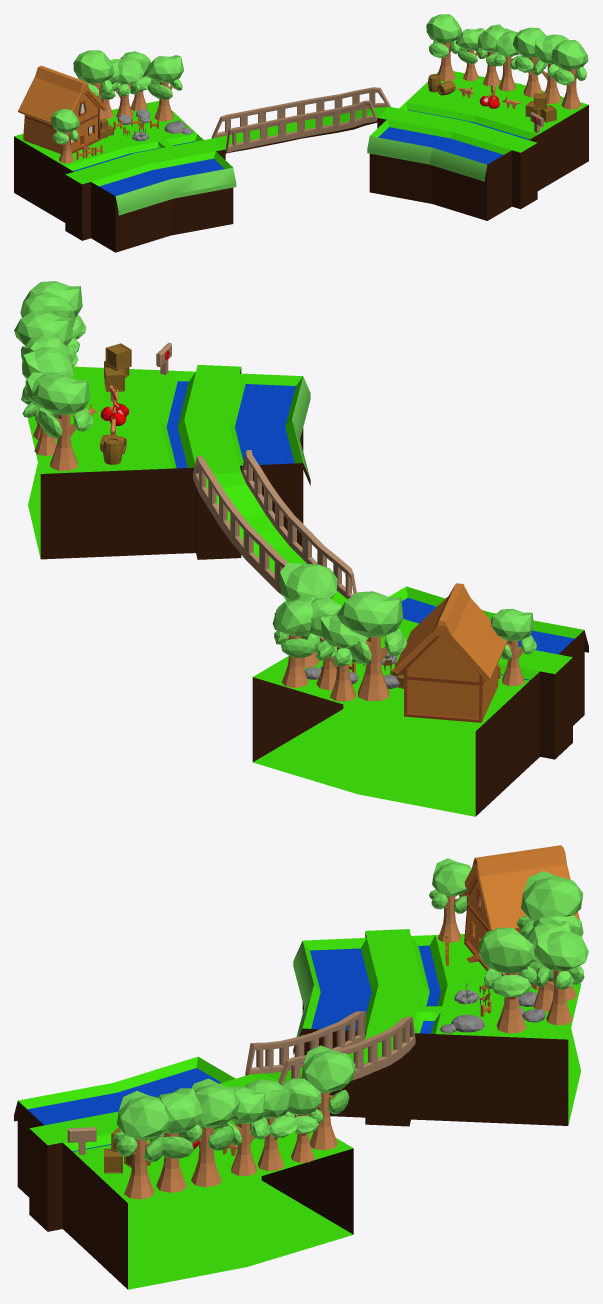
File: Grassland1.fbx
The picture shows the model from 3 angles, top to bottom: view 1: azimuth 30°, elevation 25°; view 2: azimuth 150°, elevation 25°; view 3: azimuth 270°, elevation 25°; orthographic projection. The views are drawn at different scales.
Parts seen in each view (by area): view 1: polySurface2, polySurface1, Bridge1, House, Leaf.025, Leaf.024, Bridge, Leaf.027, Leaf.026, Leaf.007, Leaf.002, Leaf.028 (+5 smaller); view 2: polySurface2, polySurface1, House, Bridge1, Leaf.024, Bridge, Leaf.007, Leaf.002, Leaf.023, Leaf.027, Leaf.029, Leaf.016 (+6 smaller); view 3: polySurface2, polySurface1, House, Bridge1, Leaf.025, Leaf.027, Leaf.024, Leaf.026, Leaf.007, Leaf.028, Leaf.029, Leaf.002 (+7 smaller).
Boxes of the visible parts, bbox=[...] form: polySurface2: bbox=[367, 71, 588, 220]; polySurface1: bbox=[14, 101, 236, 252]; Bridge1: bbox=[211, 87, 390, 152]; House: bbox=[18, 65, 106, 153]; Leaf.025: bbox=[551, 40, 588, 109]; Leaf.024: bbox=[426, 14, 461, 81]; Bridge: bbox=[214, 106, 388, 153]; Leaf.027: bbox=[513, 27, 547, 97]; Leaf.026: bbox=[532, 34, 568, 103]; Leaf.007: bbox=[73, 50, 114, 83]; Leaf.002: bbox=[50, 109, 79, 163]; Leaf.028: bbox=[493, 28, 521, 91]; polySurface2: bbox=[28, 365, 310, 559]; polySurface1: bbox=[252, 586, 588, 816]; House: bbox=[394, 583, 507, 722]; Bridge1: bbox=[193, 450, 356, 598]; Leaf.024: bbox=[32, 375, 93, 470]; Bridge: bbox=[206, 472, 347, 605]; Leaf.007: bbox=[337, 591, 403, 637]; Leaf.002: bbox=[490, 608, 536, 686]; Leaf.023: bbox=[280, 563, 337, 601]; Leaf.027: bbox=[14, 311, 78, 366]; Leaf.029: bbox=[21, 347, 73, 439]; Leaf.016: bbox=[272, 596, 314, 636]; polySurface2: bbox=[14, 1056, 353, 1289]; polySurface1: bbox=[293, 929, 580, 1126]; House: bbox=[459, 845, 579, 970]; Bridge1: bbox=[245, 1011, 415, 1084]; Leaf.025: bbox=[112, 1090, 168, 1199]; Leaf.027: bbox=[182, 1078, 240, 1187]; Leaf.024: bbox=[301, 1045, 355, 1150]; Leaf.026: bbox=[149, 1088, 202, 1192]; Leaf.007: bbox=[521, 871, 583, 921]; Leaf.028: bbox=[219, 1086, 269, 1175]; Leaf.029: bbox=[245, 1079, 296, 1170]; Leaf.002: bbox=[429, 858, 471, 942].
Size of the model in its own units: 290 by 94.44 by 215.
